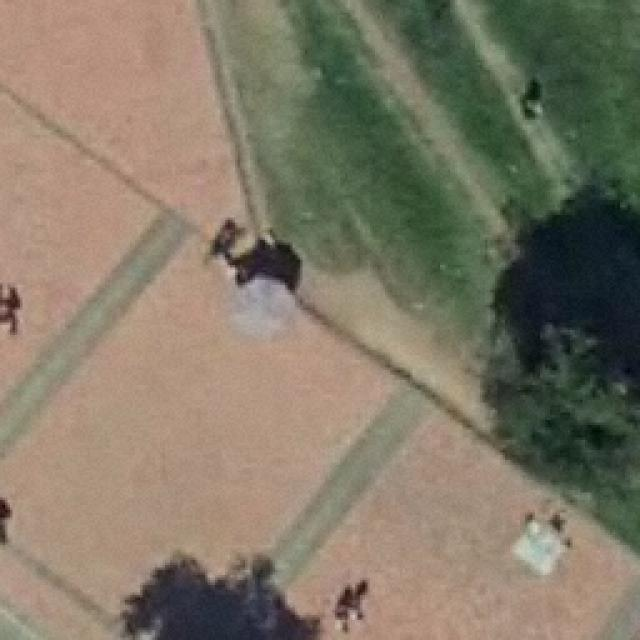vendedor_ambulante: (225, 270, 301, 345)
